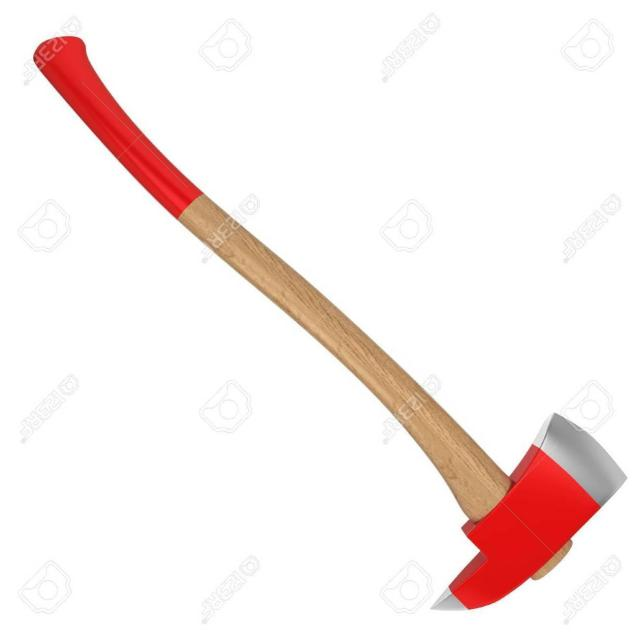Kapak: (26, 28, 635, 623)
